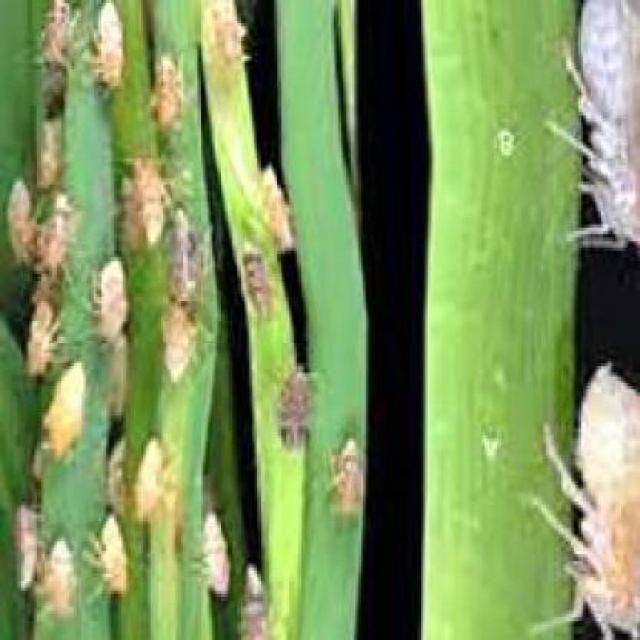brown-planthopper: (567, 364, 640, 640), (568, 0, 638, 237), (46, 357, 94, 469), (124, 440, 168, 518), (92, 0, 128, 89), (128, 156, 164, 244), (329, 438, 369, 517), (282, 364, 316, 448), (94, 257, 126, 343), (95, 511, 128, 592), (160, 305, 195, 380), (200, 514, 232, 594), (44, 538, 76, 618), (263, 178, 295, 250), (212, 14, 248, 75), (151, 59, 183, 124), (38, 218, 72, 276), (242, 252, 272, 316), (31, 298, 52, 377)
